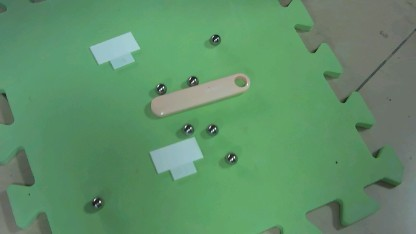ironball: (221, 149, 239, 165), (88, 194, 106, 210), (153, 78, 171, 93), (179, 121, 195, 137), (206, 32, 220, 49), (205, 120, 218, 136), (183, 75, 198, 87)
